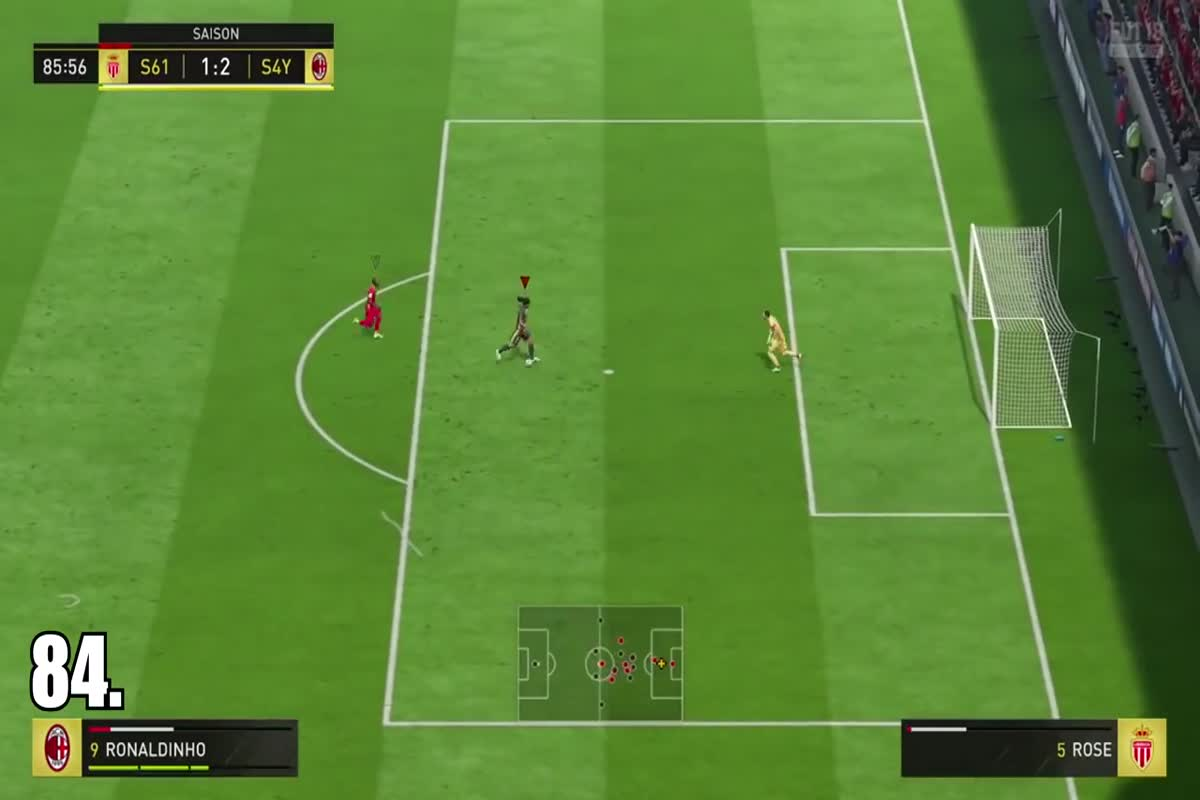ball: (516, 357, 545, 378)
